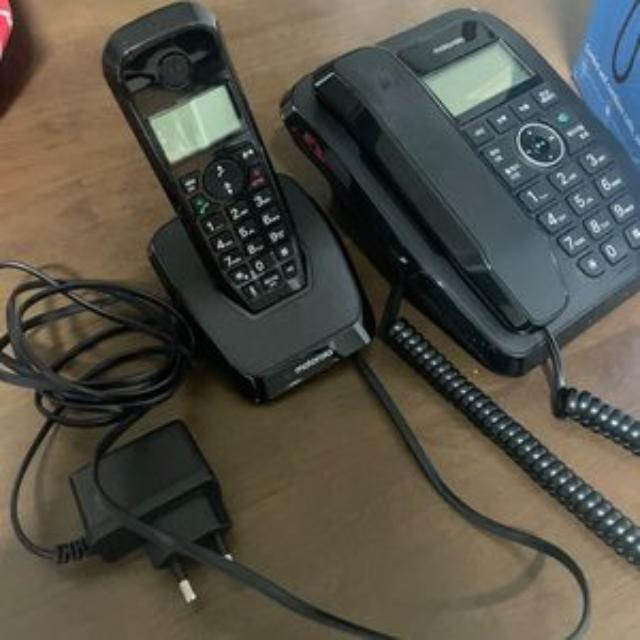Telephone-Set: (282, 6, 640, 378)
